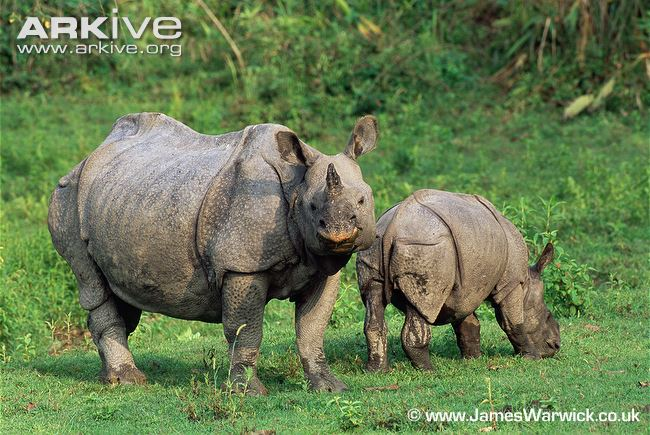rhinoceros: (39, 111, 364, 405), (359, 179, 566, 377)
